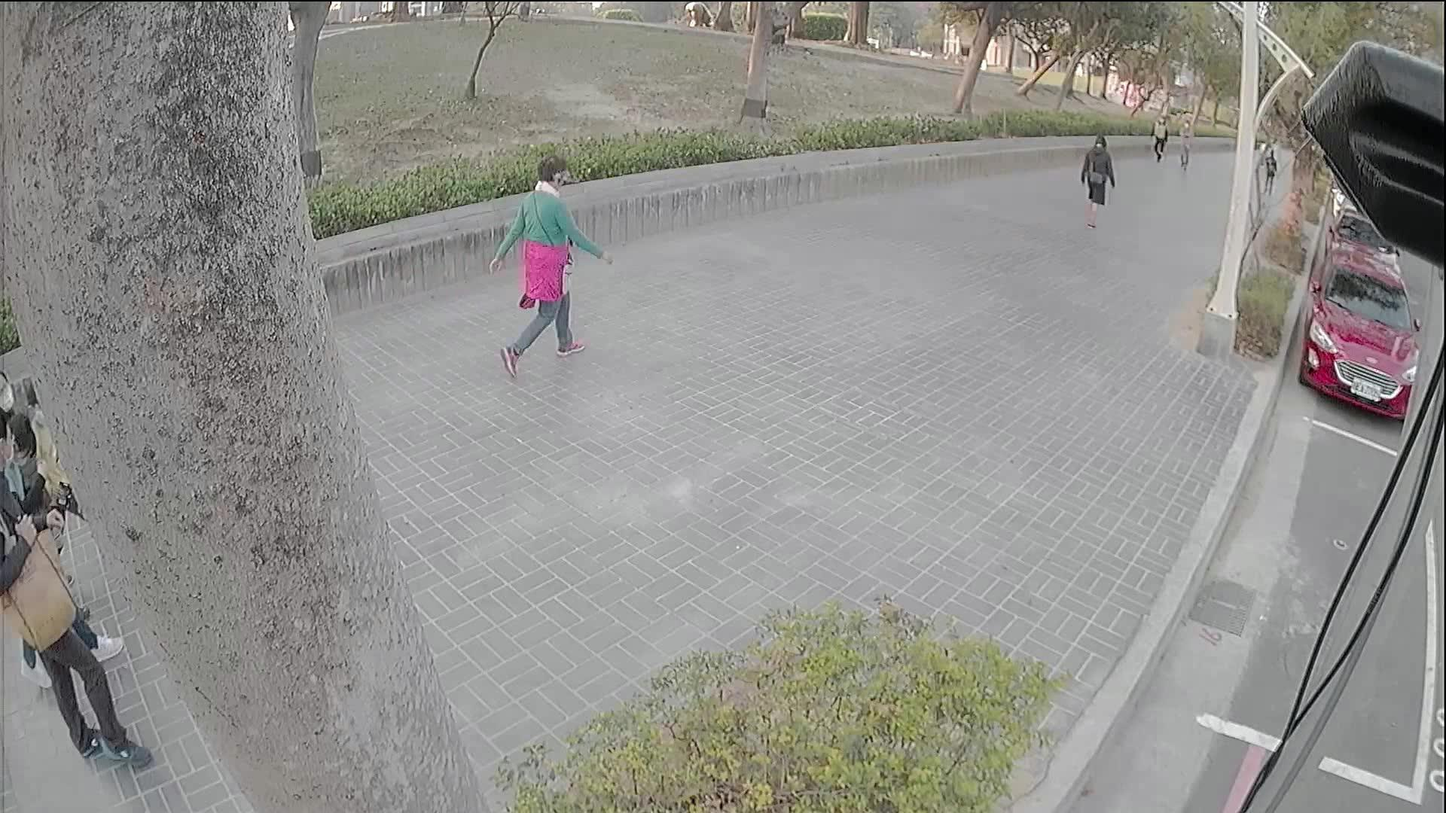person: (0, 418, 148, 766), (492, 156, 606, 370), (1079, 134, 1115, 231), (1177, 116, 1193, 168), (1261, 145, 1275, 190), (1152, 117, 1167, 157)
